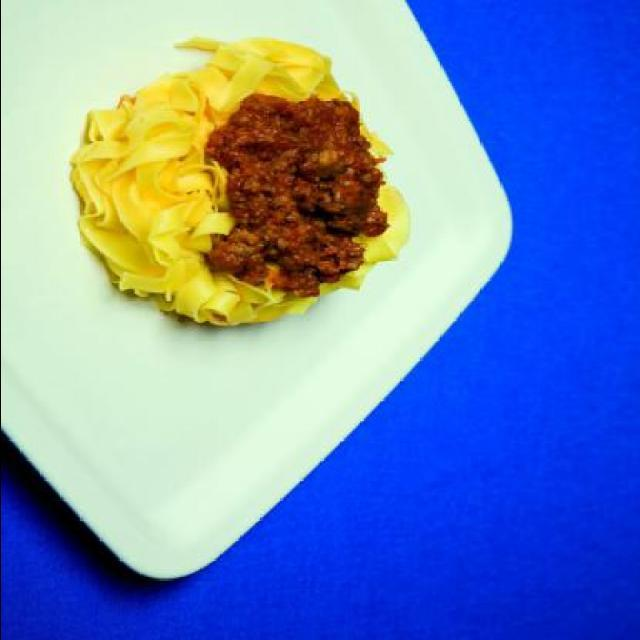Pasta al ragu: (64, 31, 432, 363)
